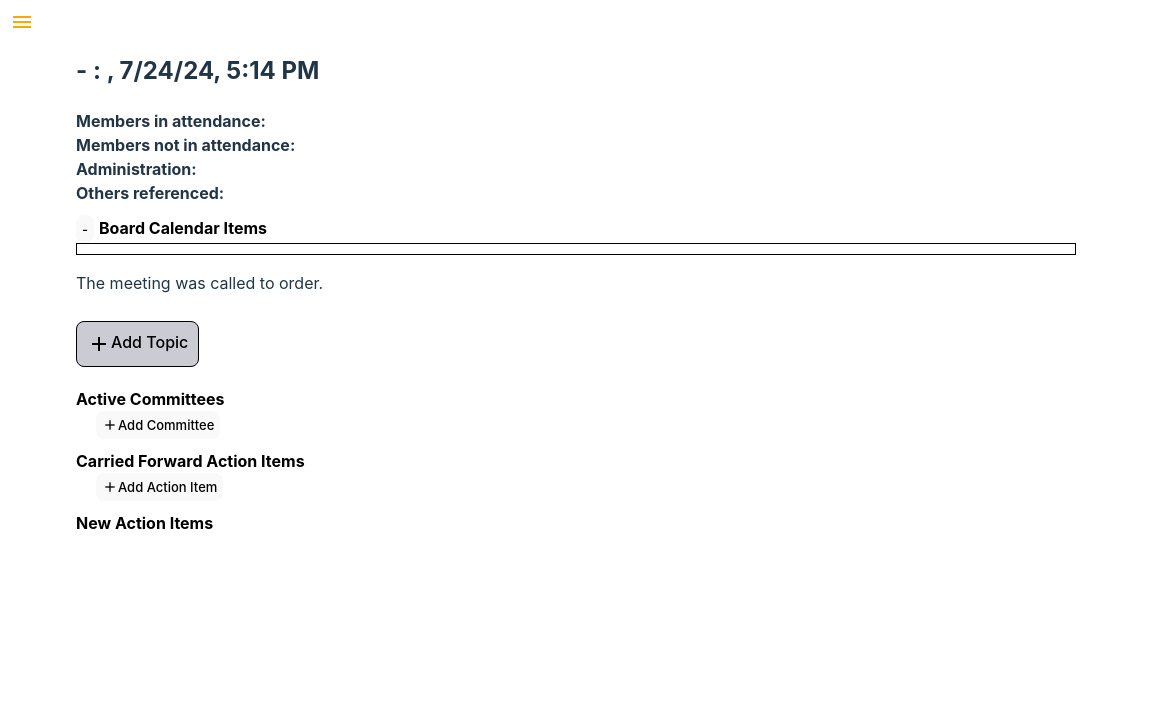
Scenario: attendance › shows an error message if new member does not have first and last name
The image size is (1152, 720).
Hover over the text "Members in attendance:": (168, 121) [76,111,266,131]
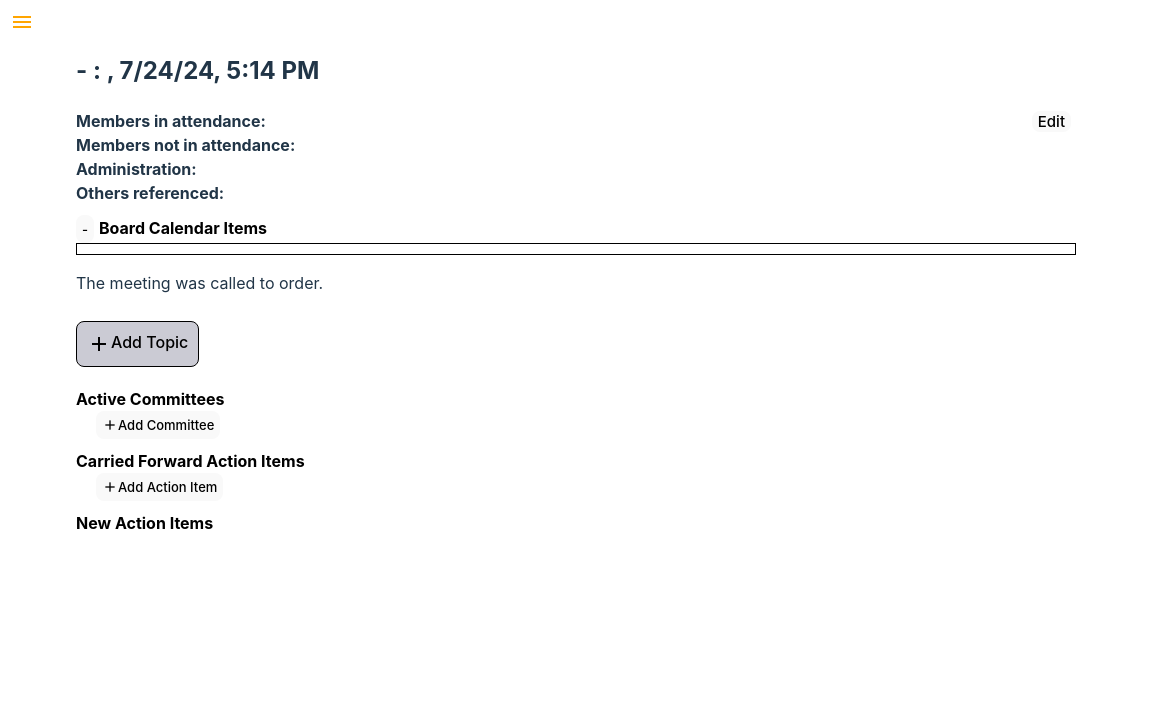
Click the button "Edit": (1051, 122) [1032,111,1071,132]
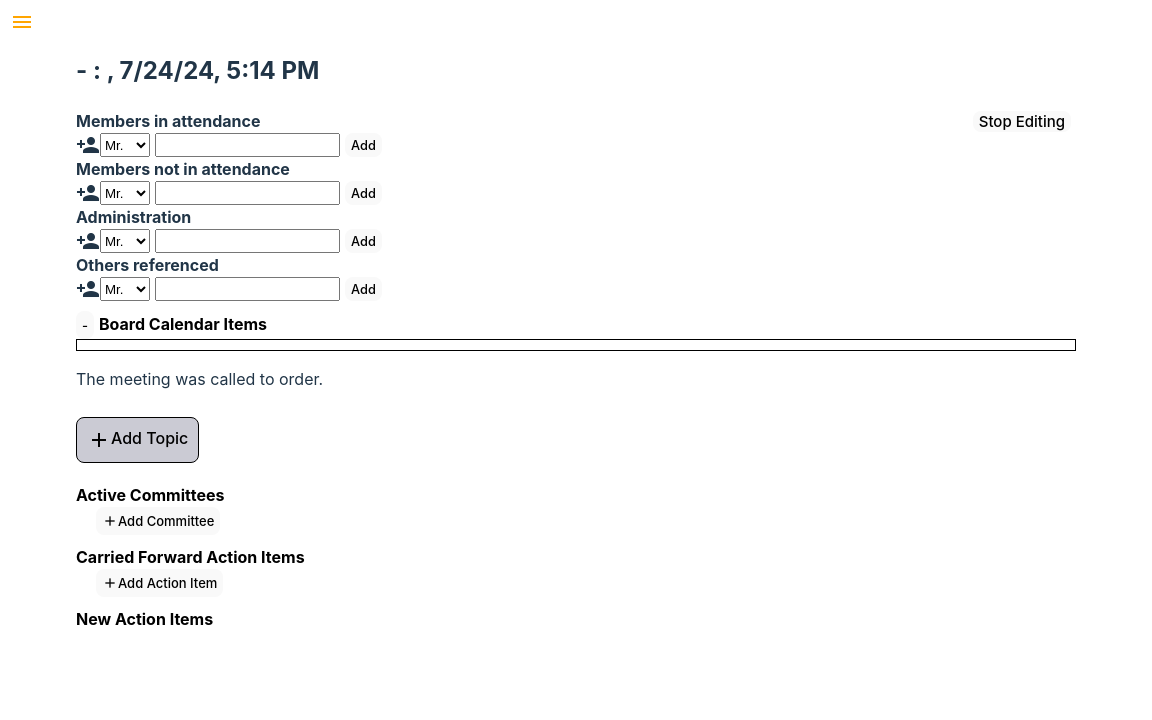
In the field named "Name to add to Members in attendance": (248, 145) [155,133,340,157], type "Bob"
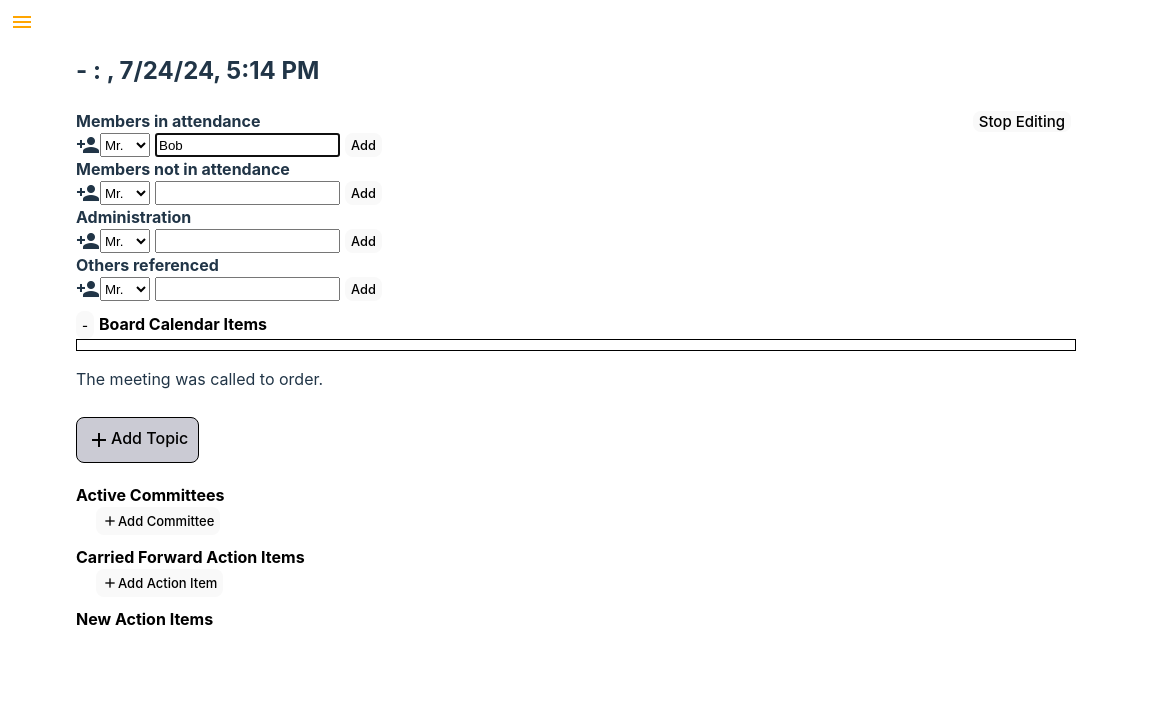
Press Enter
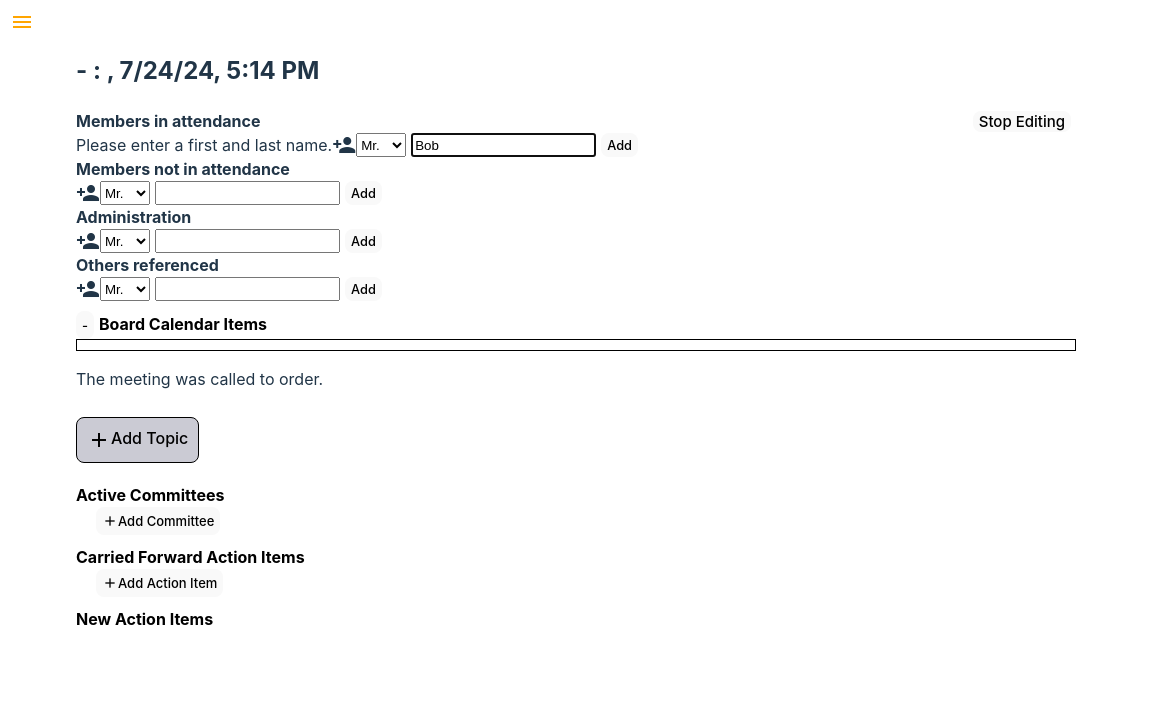
Now the message reads "Please enter a first and last name.", box [76,135,332,155]
